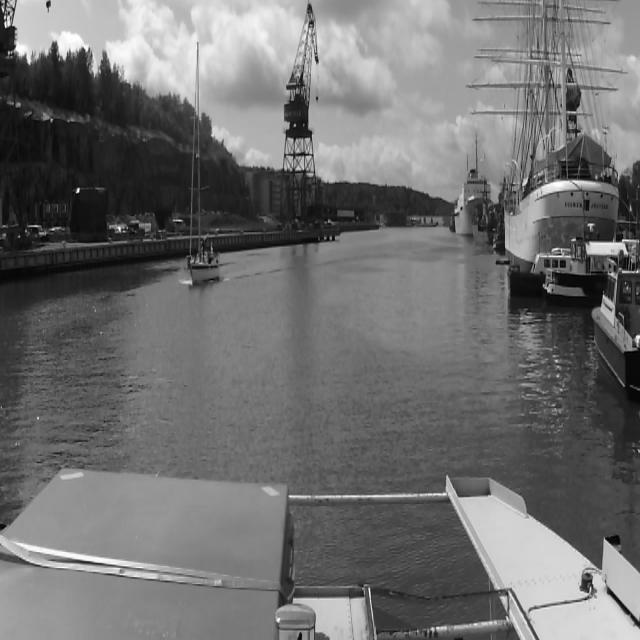ship: (473, 0, 611, 262), (187, 38, 223, 284), (594, 247, 640, 412), (506, 250, 589, 298), (454, 152, 473, 237), (472, 182, 494, 244)
